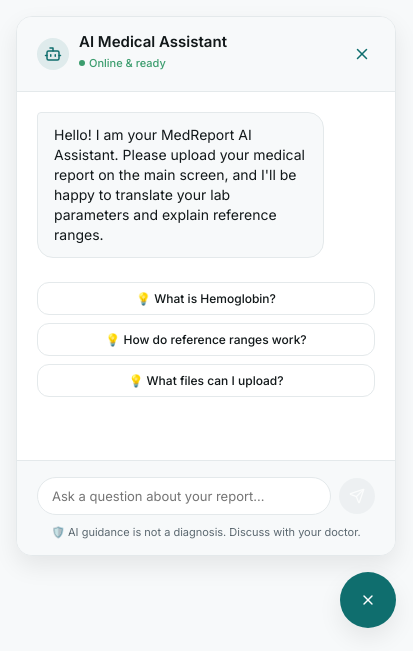
Test: ChatWidget markdown rendering › renders malformed model markdown without leaking asterisks
The width and height of the screenshot is (413, 651).
Type "what is an anion gap?" into the field with test id "chat-input". click: (184, 496)
box: [37,477,331,515]
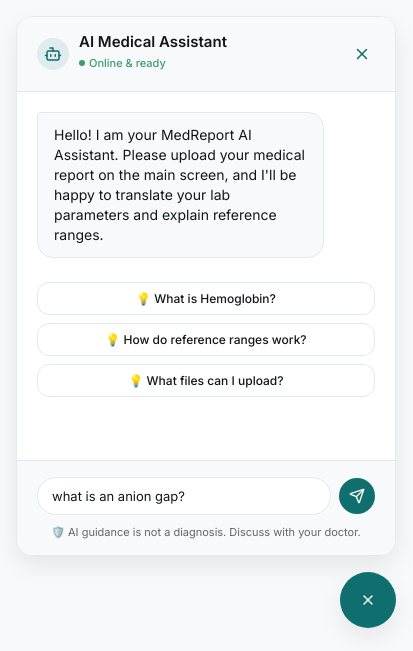
Click the button with test id "chat-send-btn". click: (357, 496)
box: [339,478,375,514]
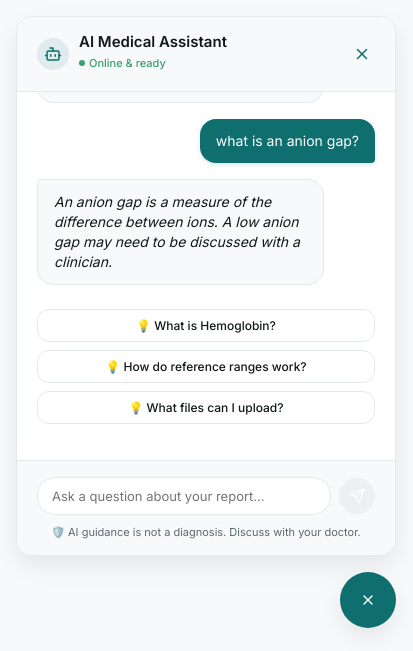
Expected: the text "An anion gap is a measure" is shown, [54,193,304,270]
